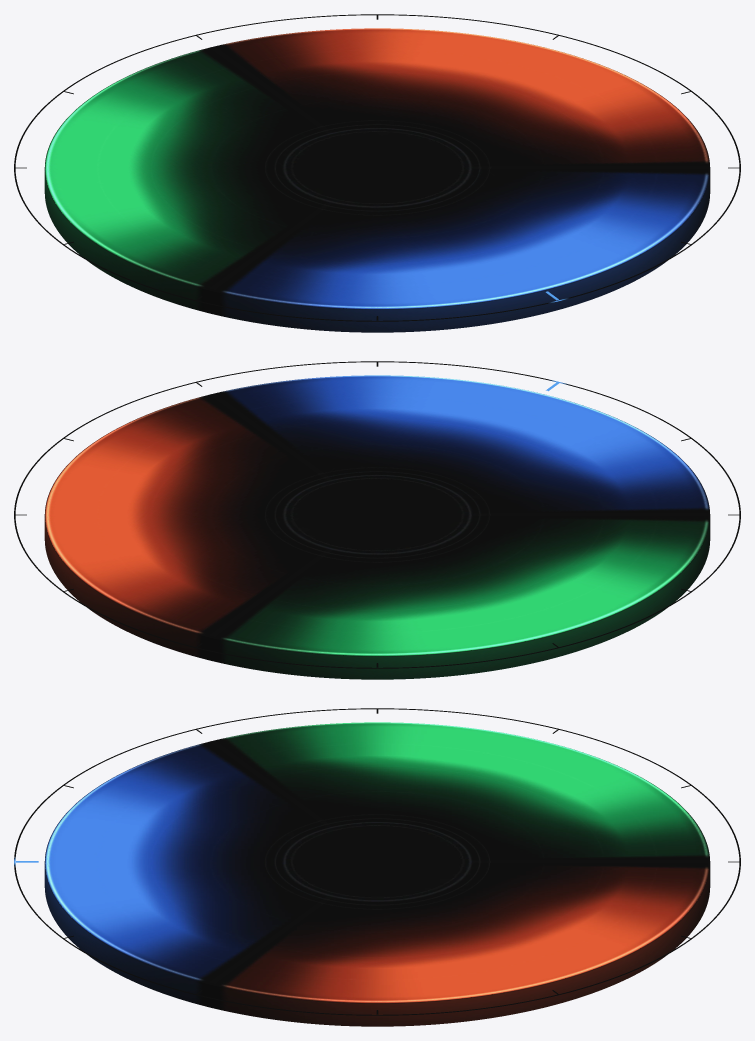
Rendered from lobby.glb.
3 renders of one model, top to bottom at view 1: azimuth 30°, elevation 25°; view 2: azimuth 150°, elevation 25°; view 3: azimuth 270°, elevation 25°, orthographic.
Parts seen in each view (by area): view 1: Base reloj, Marcas; view 2: Base reloj, Marcas; view 3: Base reloj, Marcas.
Boxes of the visible parts, x1,y1,x2,y2 form: Base reloj: [44, 28, 710, 332]; Marcas: [14, 14, 740, 321]; Base reloj: [44, 375, 710, 679]; Marcas: [14, 361, 740, 668]; Base reloj: [44, 722, 710, 1026]; Marcas: [14, 708, 740, 1015].
Size of the model in its own units: 9.03 by 0.3354 by 9.03.
Materials: 4 (4 with a texture image).
